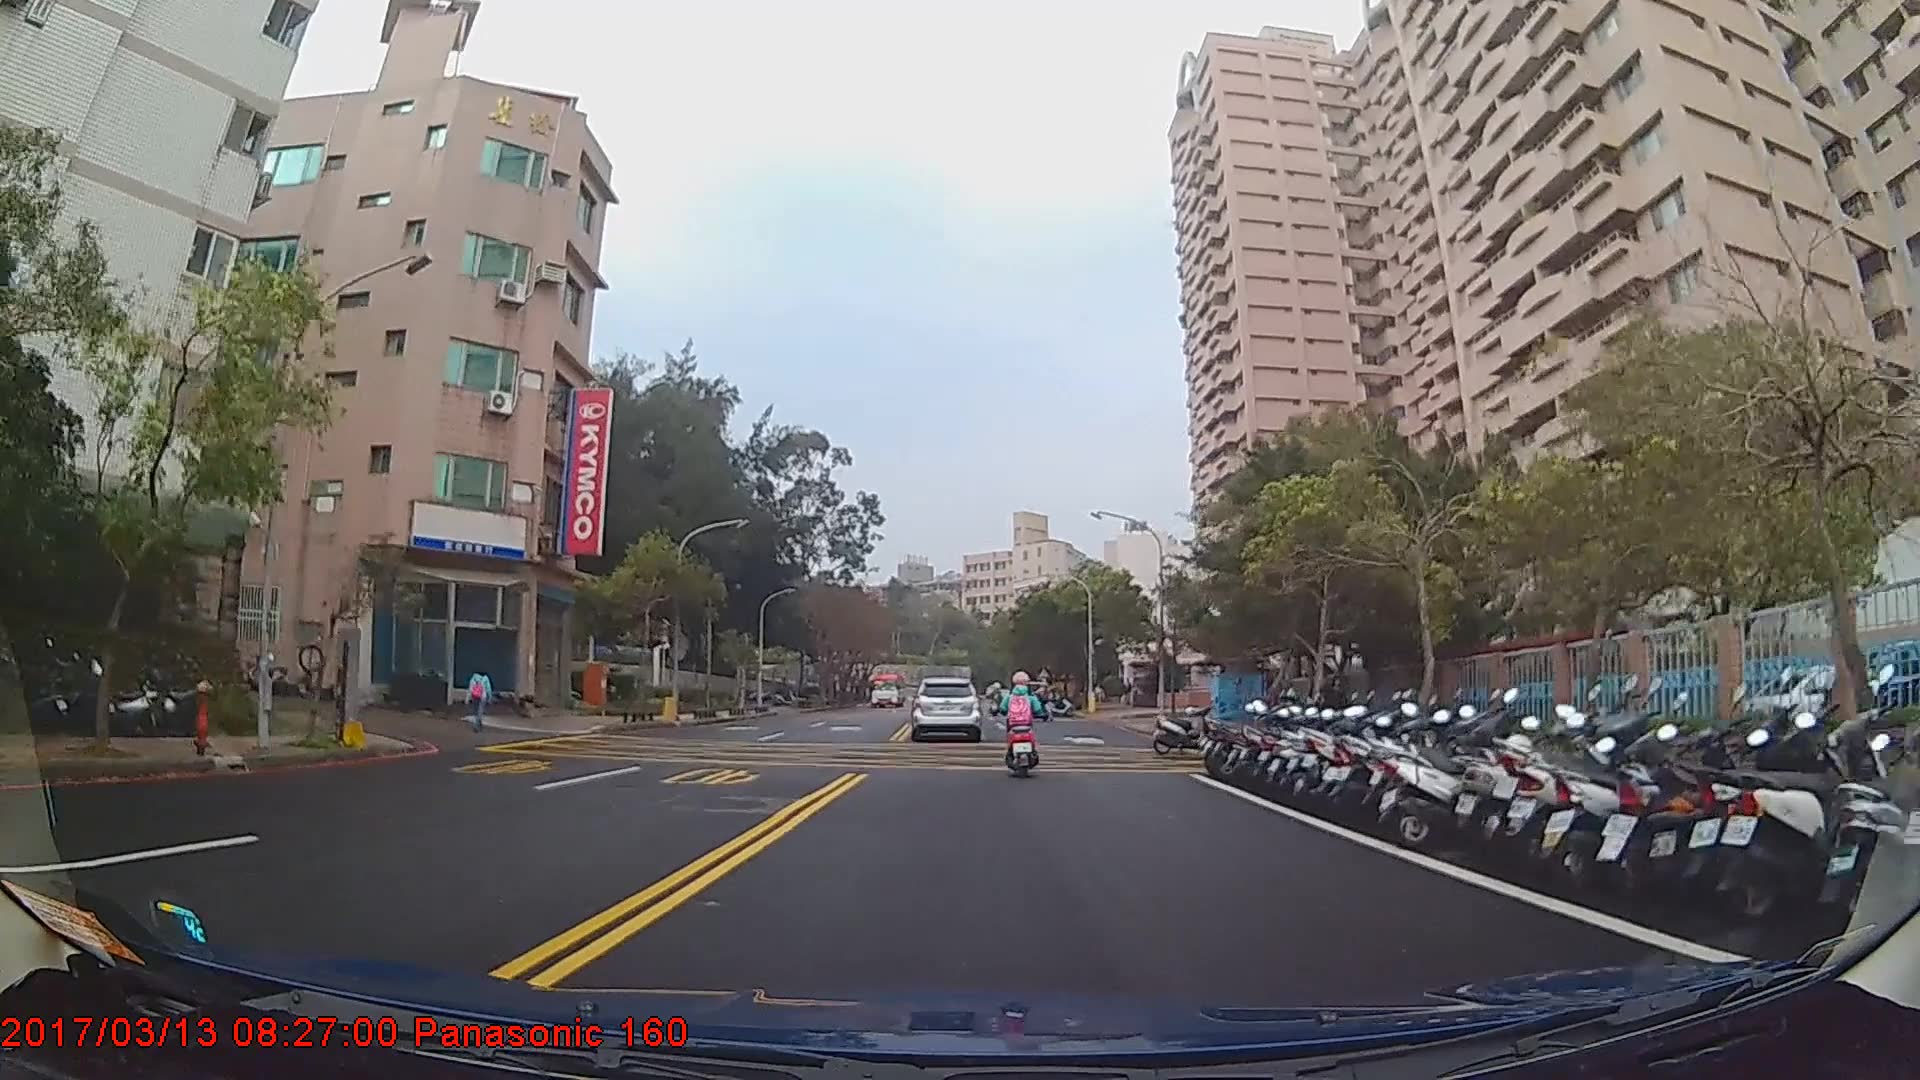pedestrian: (469, 662, 494, 735)
rider: (996, 669, 1046, 782)
vehicle: (909, 673, 978, 739), (866, 670, 908, 708)
